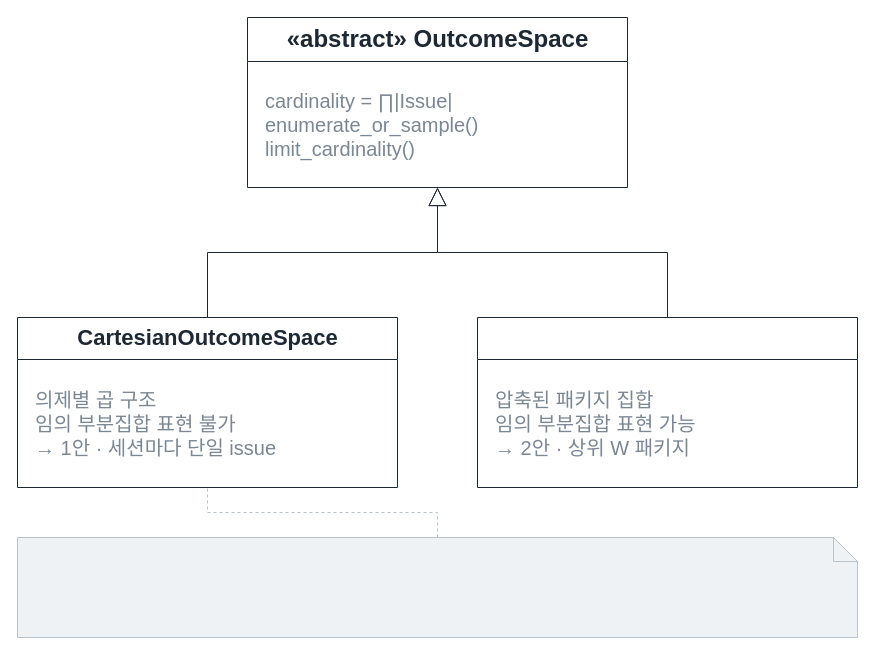
This 875x655 diagram has some shape labels left out. Each missing label, with the box of its shape:
열거형 OutcomeSpace: (476, 316, 858, 488)
타입 결정이 효용함수 표현과 협상 전략의 전제가 된다. 이후 변경은 그 위에 쌓인 것을 함께 들어낸다 — 되돌리기 비용: (16, 536, 858, 638)
